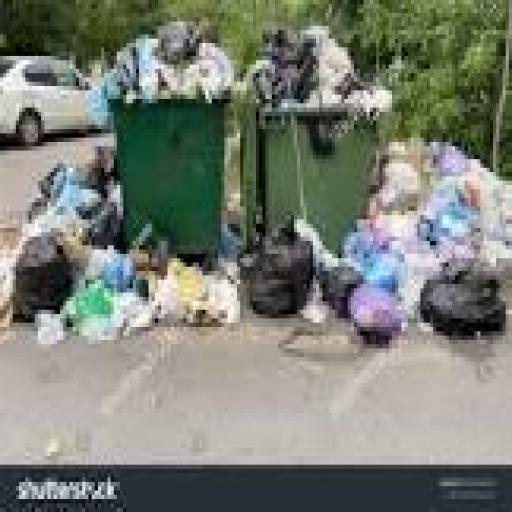poubelle_pleine: (91, 22, 235, 274), (240, 28, 383, 281)
